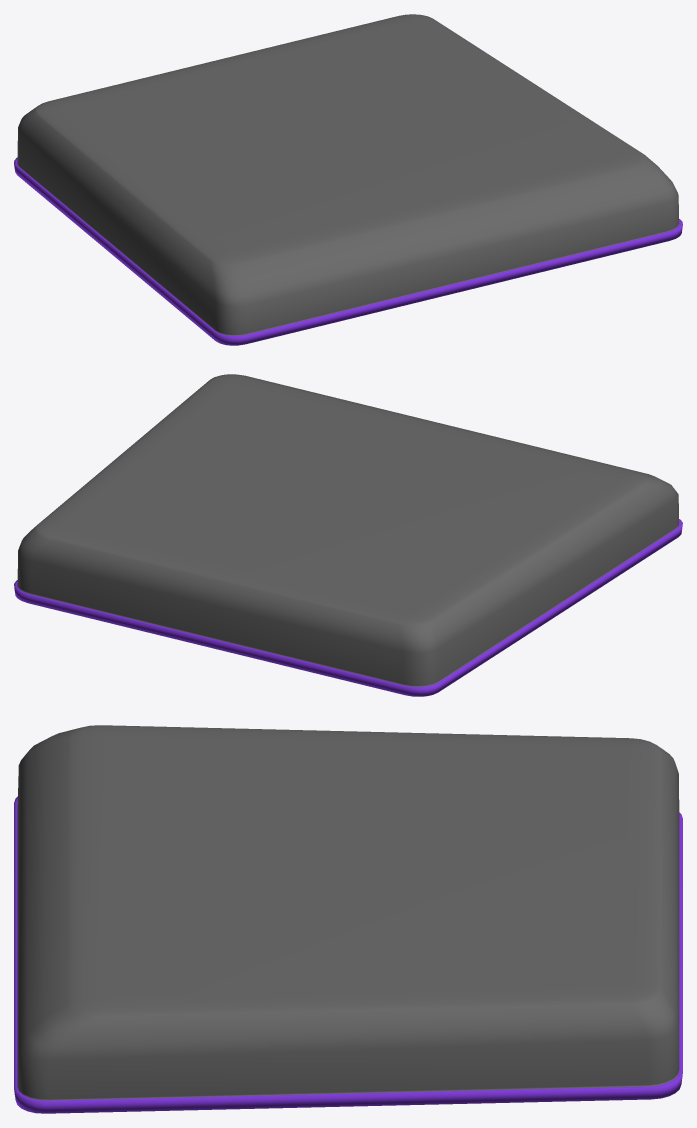
The model's file is chair_base_bottom.fbx.
3 renders of one model, top to bottom at view 1: azimuth 30°, elevation 25°; view 2: azimuth 150°, elevation 25°; view 3: azimuth 270°, elevation 25°, orthographic. The views are drawn at different scales.
Visible parts, largest first — view 1: chair_base_bottom; view 2: chair_base_bottom; view 3: chair_base_bottom.
Boxes of the visible parts, x1,y1,x2,y2 form: chair_base_bottom: (14,14,682,345); chair_base_bottom: (14,374,682,696); chair_base_bottom: (14,725,682,1113).
Bounding box in the file's own units: 98.63 × 14.09 × 88.98.
